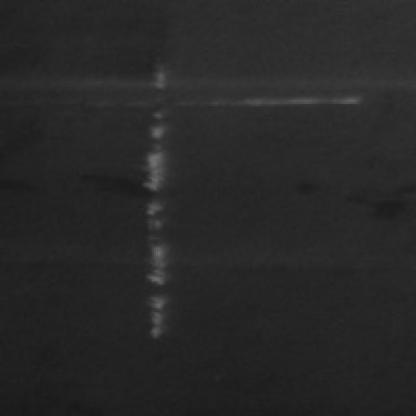scratches: (141, 67, 174, 341), (187, 90, 387, 122)
